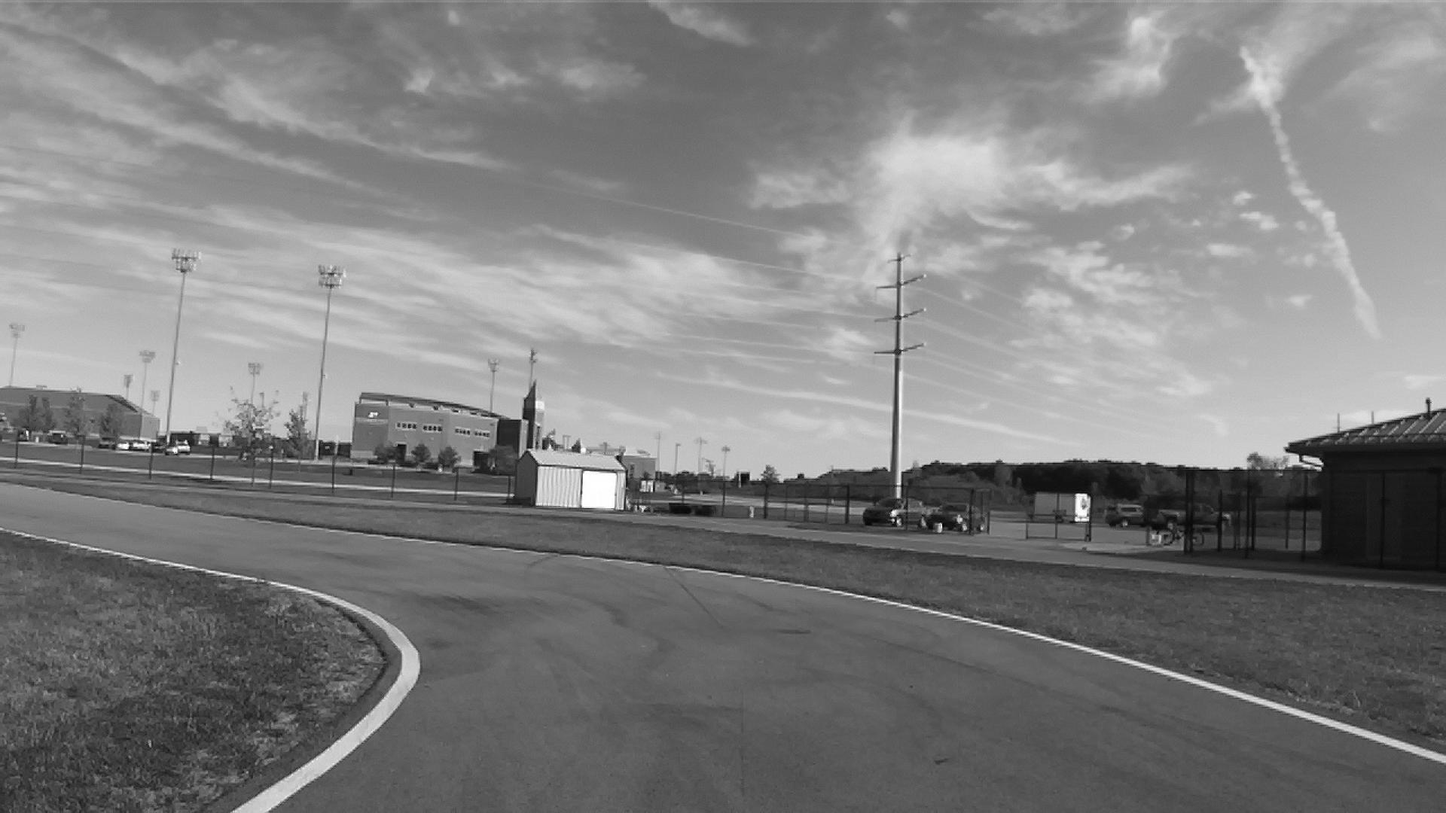white-line: (383, 536, 1445, 764), (0, 527, 420, 812)
